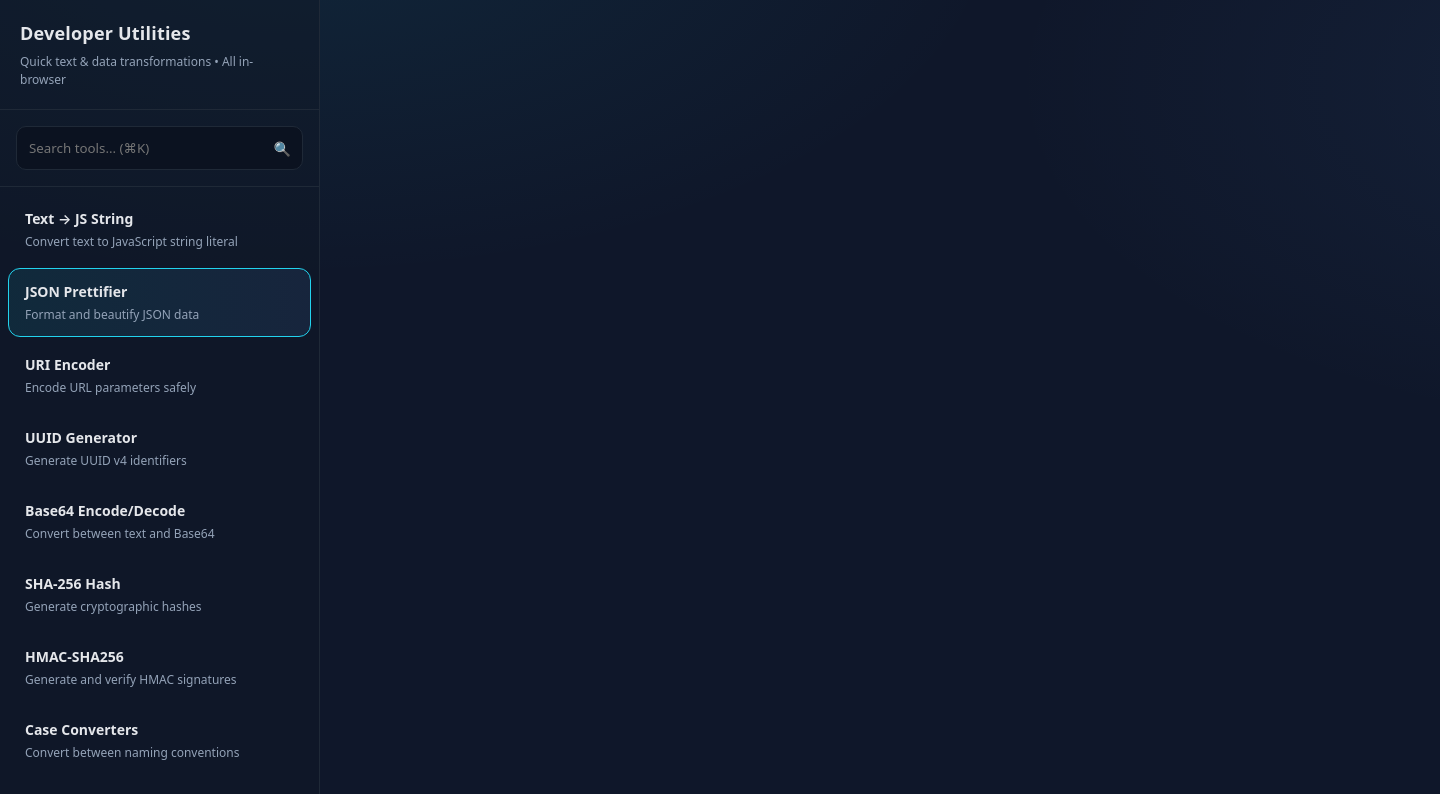
App › switches between tools
This screenshot has width=1440, height=794.
Click the heading "JSON Prettifier": (76, 292) [25,282,127,301]
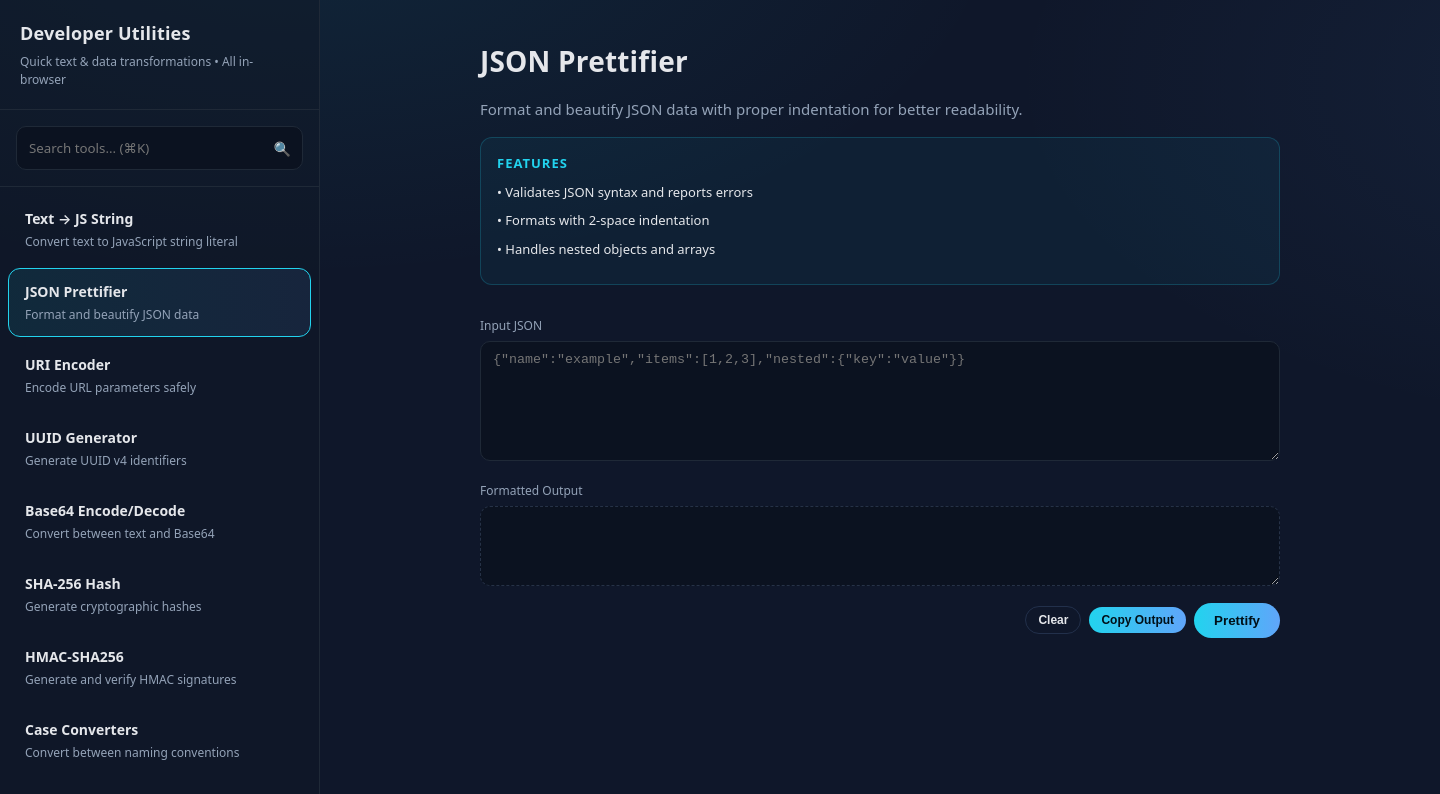
Expected: the text "Format and beautify JSON data with proper indentation for better readability." is shown, [480,99,1022,119]
Click on a different tool
Click the heading "UUID Generator": (81, 438) [25,428,137,447]
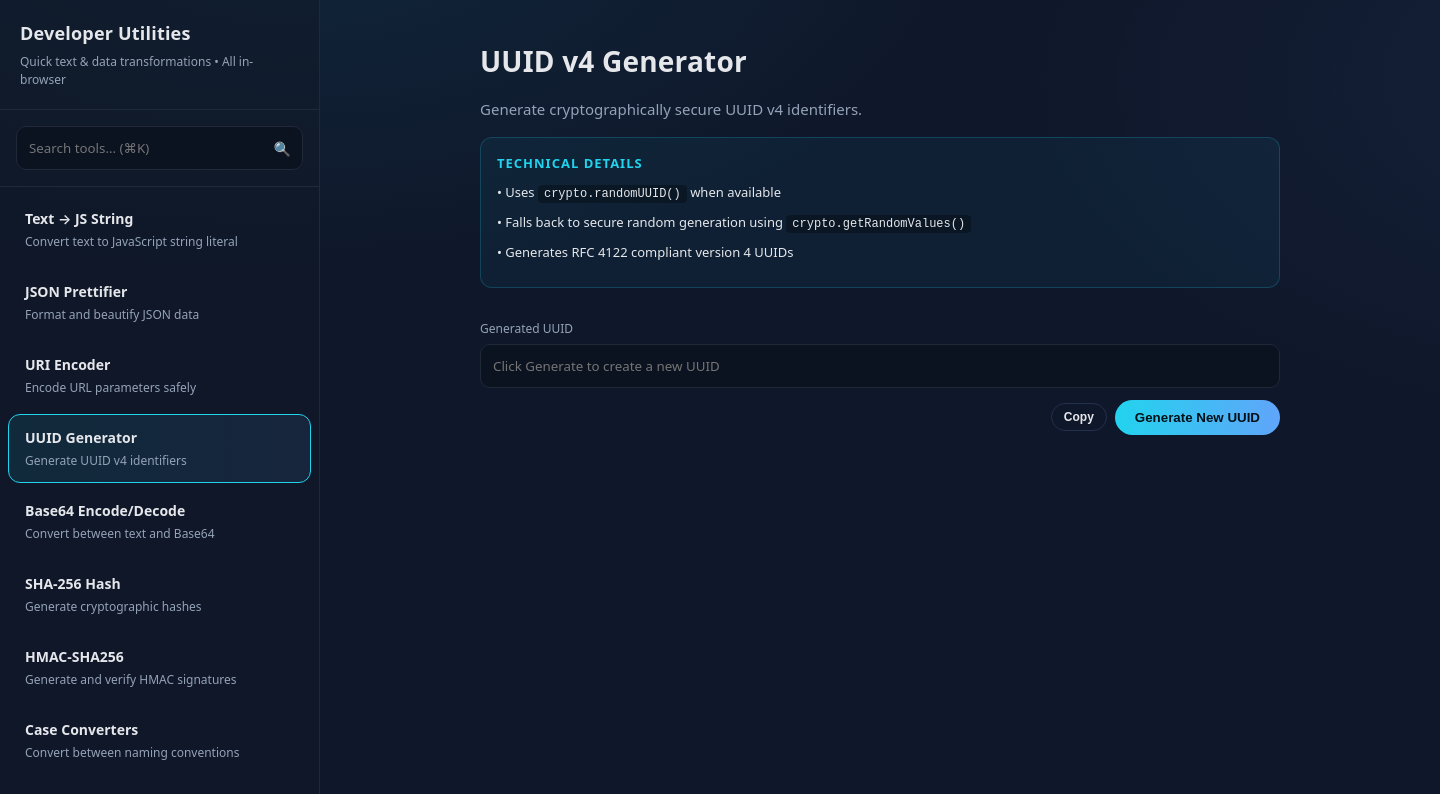
Expected: the text "Format and beautify JSON data with proper indentation for better readability." is gone
Expected: the text "Generate cryptographically secure UUID v4 identifiers." is shown, [480,99,862,119]
